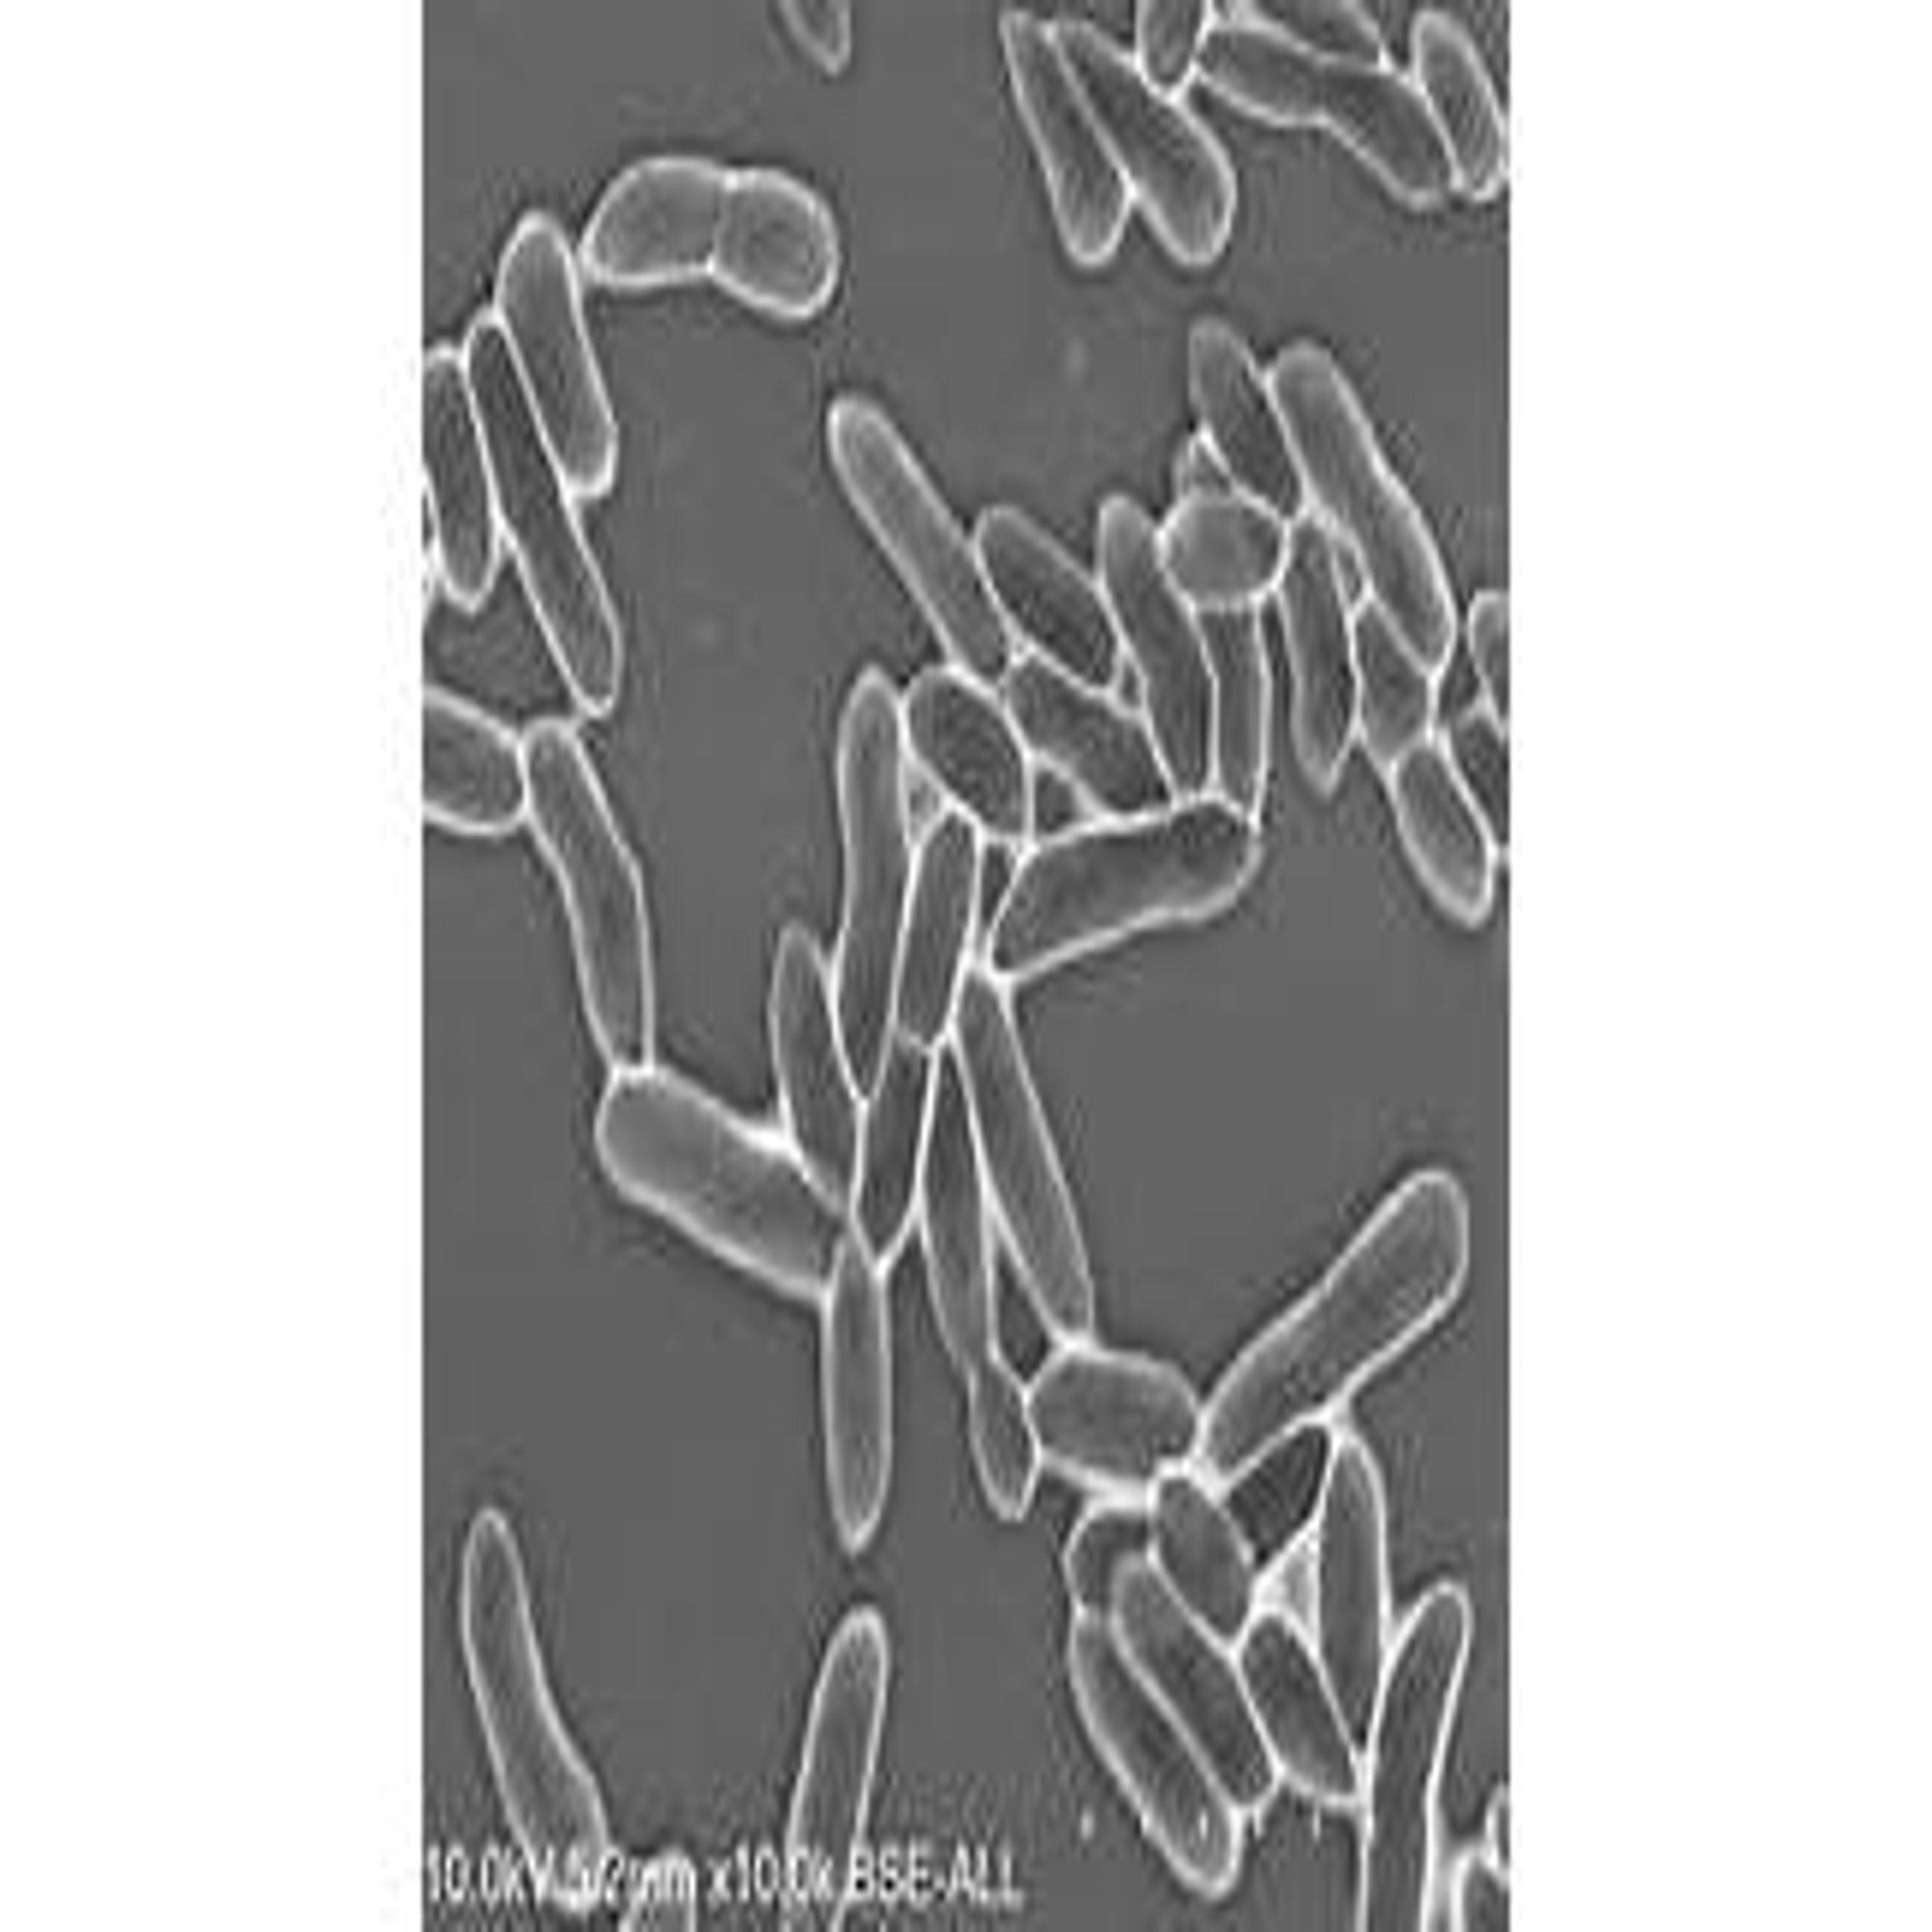salmonella_typhi5: (1194, 1164, 1470, 1493), (989, 787, 1270, 980), (517, 720, 655, 1070), (492, 211, 614, 502)
